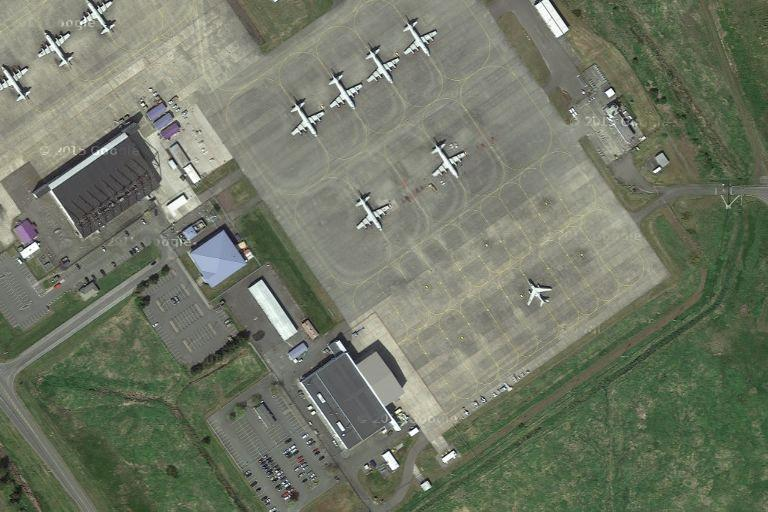P-3C: (36, 27, 80, 72), (396, 19, 442, 62), (285, 99, 329, 142), (425, 141, 471, 182), (323, 70, 366, 113), (360, 44, 402, 87), (73, 1, 119, 39), (352, 194, 394, 234), (1, 61, 38, 105)
P-8A: (525, 276, 557, 312)
